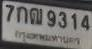letters: (16, 7, 28, 24), (30, 8, 42, 25), (47, 10, 56, 27), (5, 5, 14, 21), (58, 12, 67, 28), (81, 15, 90, 30), (71, 13, 77, 30)
province: (15, 31, 80, 45)
